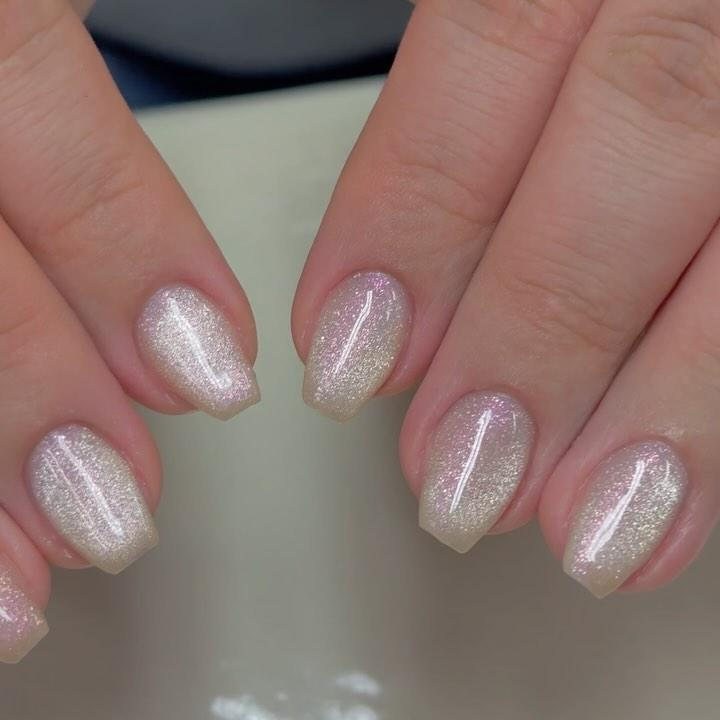nail: (22, 420, 159, 575), (560, 436, 688, 599), (416, 387, 536, 554), (132, 279, 261, 421), (300, 268, 413, 421), (0, 553, 49, 665)
